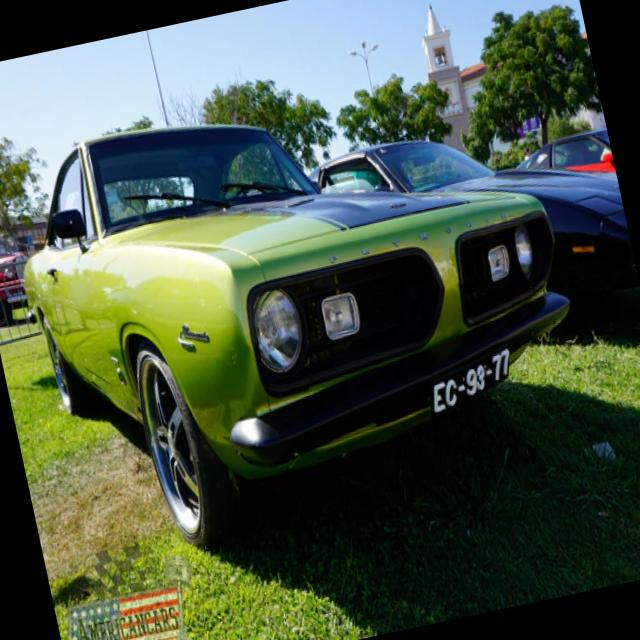portuguese-license-plates: (427, 342, 512, 421)
